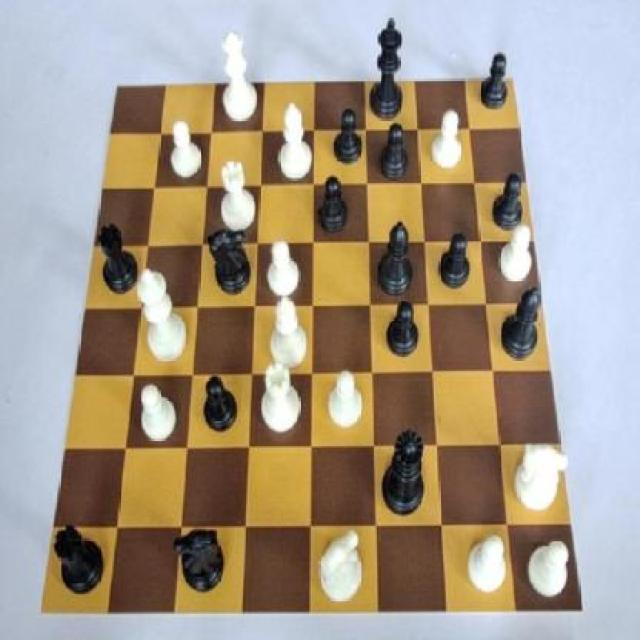bishop: (371, 217, 422, 303), (494, 286, 546, 364)
black-bishop: (365, 18, 407, 121)
black-king: (206, 226, 261, 302), (172, 524, 227, 598)
black-knight: (328, 101, 367, 174), (380, 298, 422, 364), (311, 174, 352, 240), (377, 114, 412, 191), (434, 229, 474, 294), (202, 371, 238, 443), (492, 166, 526, 233), (478, 48, 512, 115)
black-pawn: (380, 431, 431, 522)
black-queen: (46, 522, 105, 602), (94, 218, 136, 297)
black-rook: (274, 103, 315, 188), (268, 291, 310, 371)
white-bishop: (135, 263, 191, 367)
white-king: (509, 440, 568, 515), (314, 532, 366, 612)
white-knight: (524, 534, 574, 603), (131, 376, 178, 448), (322, 358, 366, 434), (462, 535, 511, 600), (163, 118, 208, 186), (263, 235, 302, 298), (500, 217, 534, 286), (432, 108, 463, 176)
white-pawn: (217, 24, 261, 130)
white-queen: (256, 361, 306, 437), (218, 162, 258, 238)
